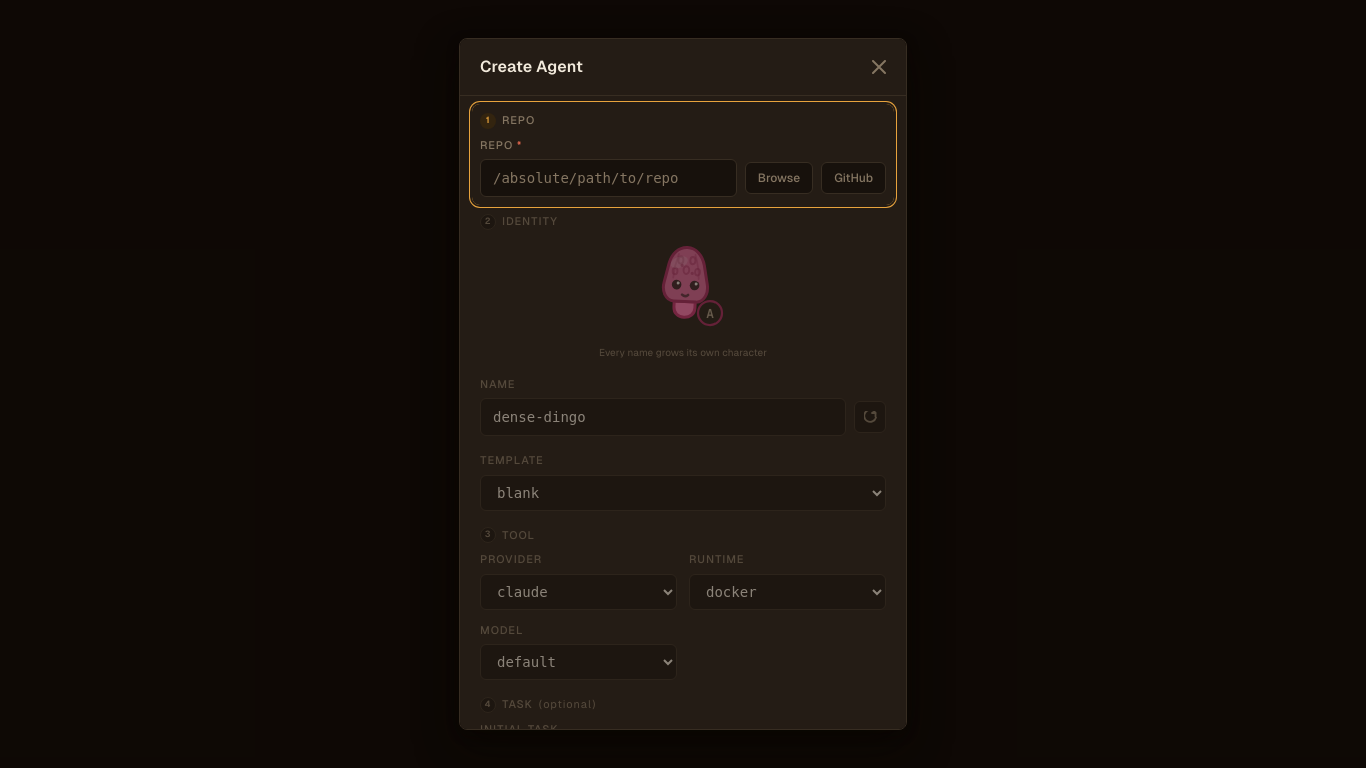
Test: CreateAgentModal GitHub discover › filters the listed GitHub repos by name
The width and height of the screenshot is (1366, 768).
Click the button "GitHub": (854, 178) 821,162 -> 886,194
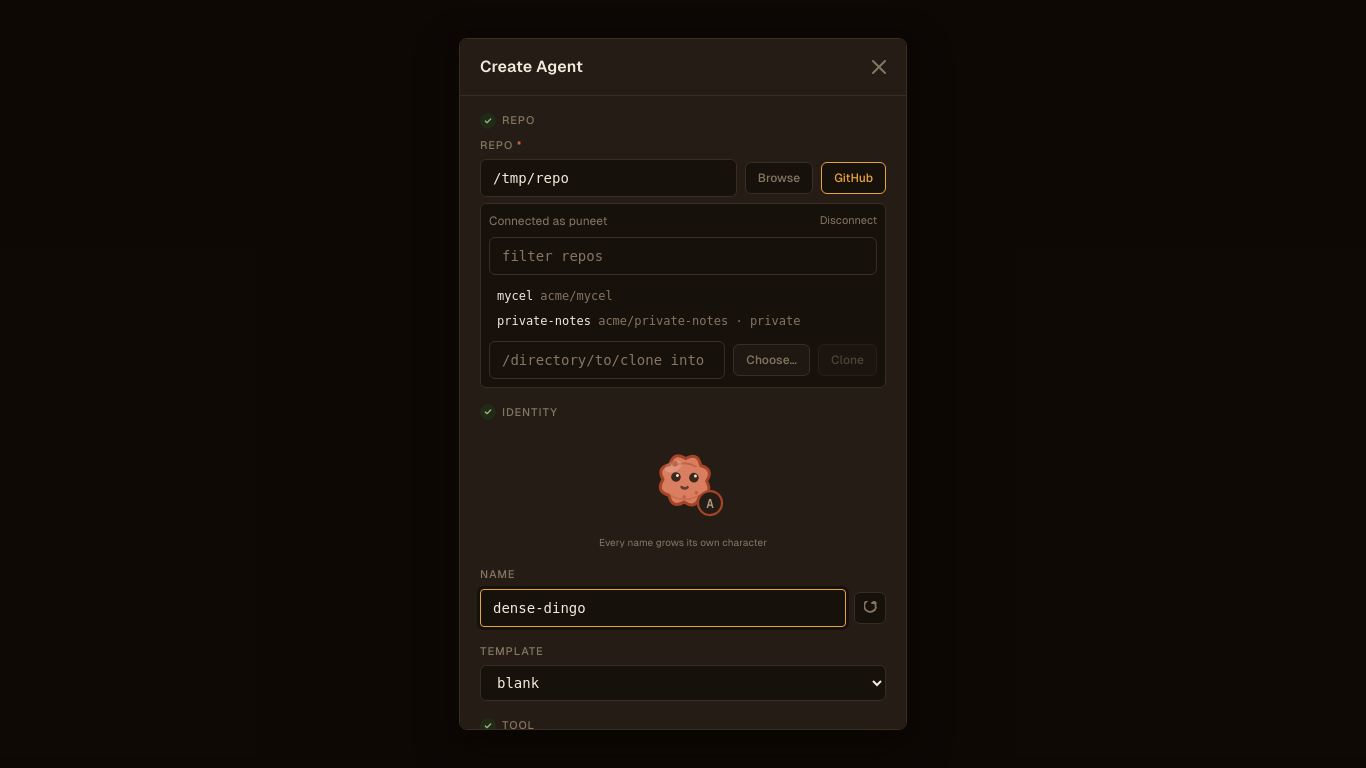
Expected: the element with test id "create-agent-github-panel" is shown, 480,203 -> 886,388
Expected: the text "acme/mycel" is shown, 540,289 -> 613,303
In the field named "Filter GitHub repos": (683, 256) 489,237 -> 877,275, type "notes"
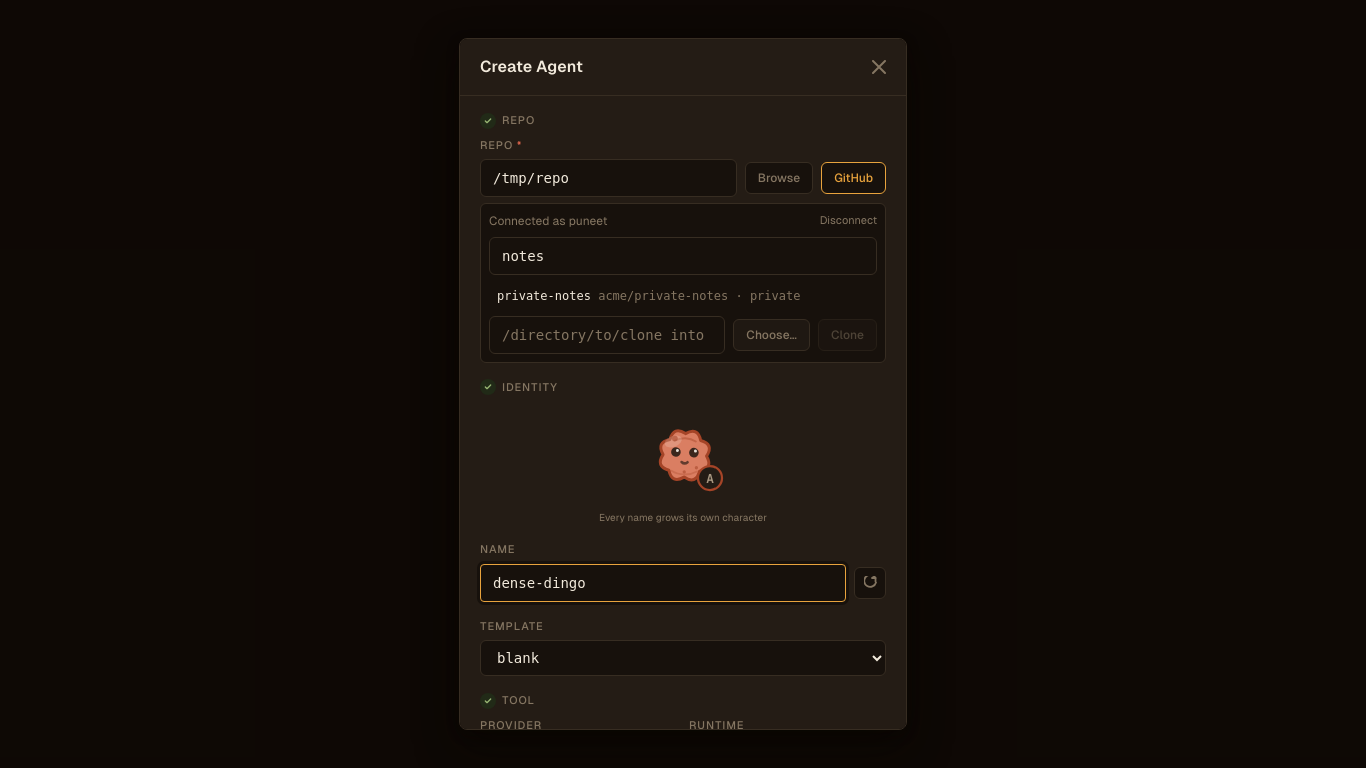
Expected: the text "acme/private-notes" is shown, 598,289 -> 728,303
Expected: the button "acme/mycel" is gone
